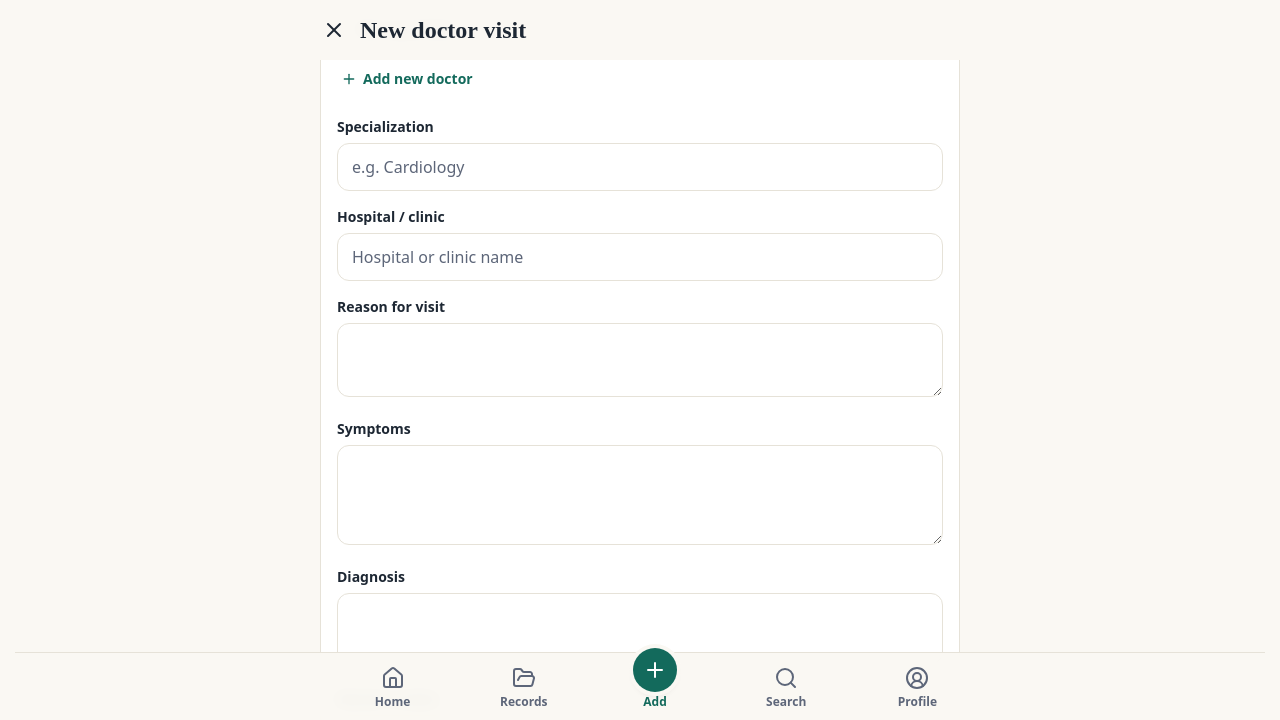
Test: adding a record › asks before a bottom-nav tab leaves a form with unsaved changes
(page scrolled)
Step 1. Type "Chest pain" into the text box labelled "Reason for visit" → {"x": 640, "y": 360}, box [337,323,943,397]
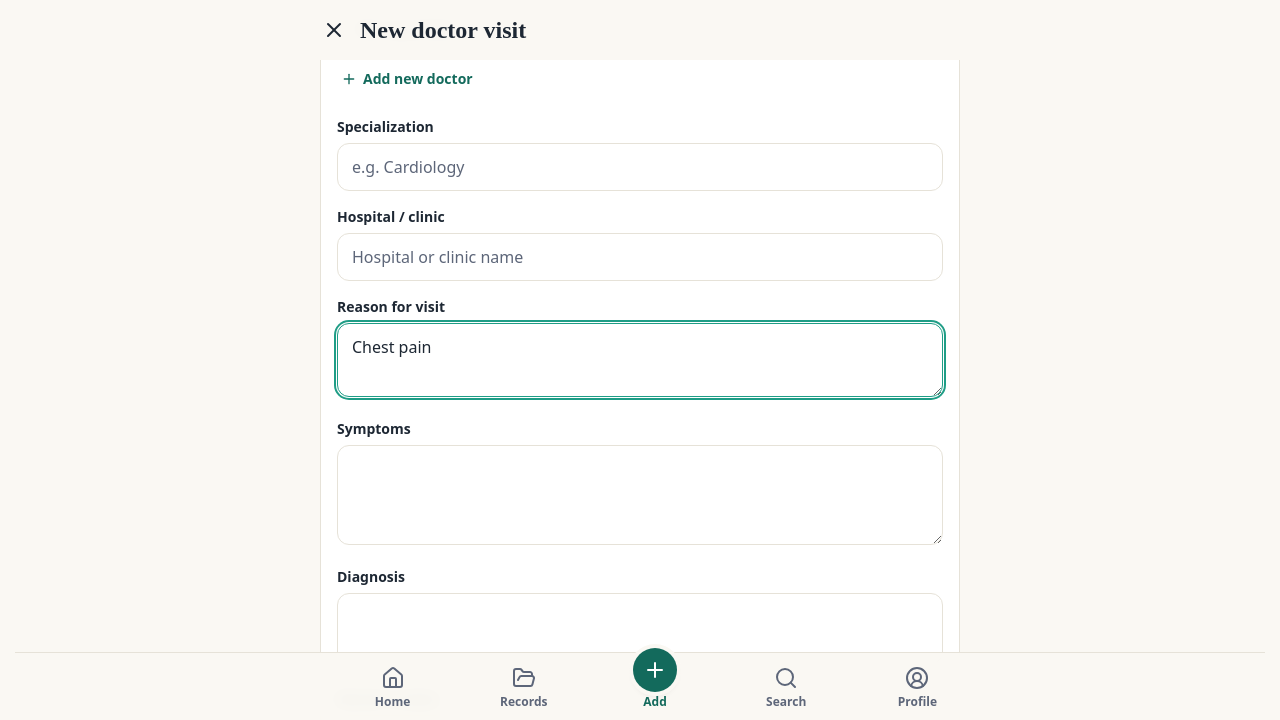
Step 2. Click the link "Records" → {"x": 524, "y": 688}, box [500,666,548,710]
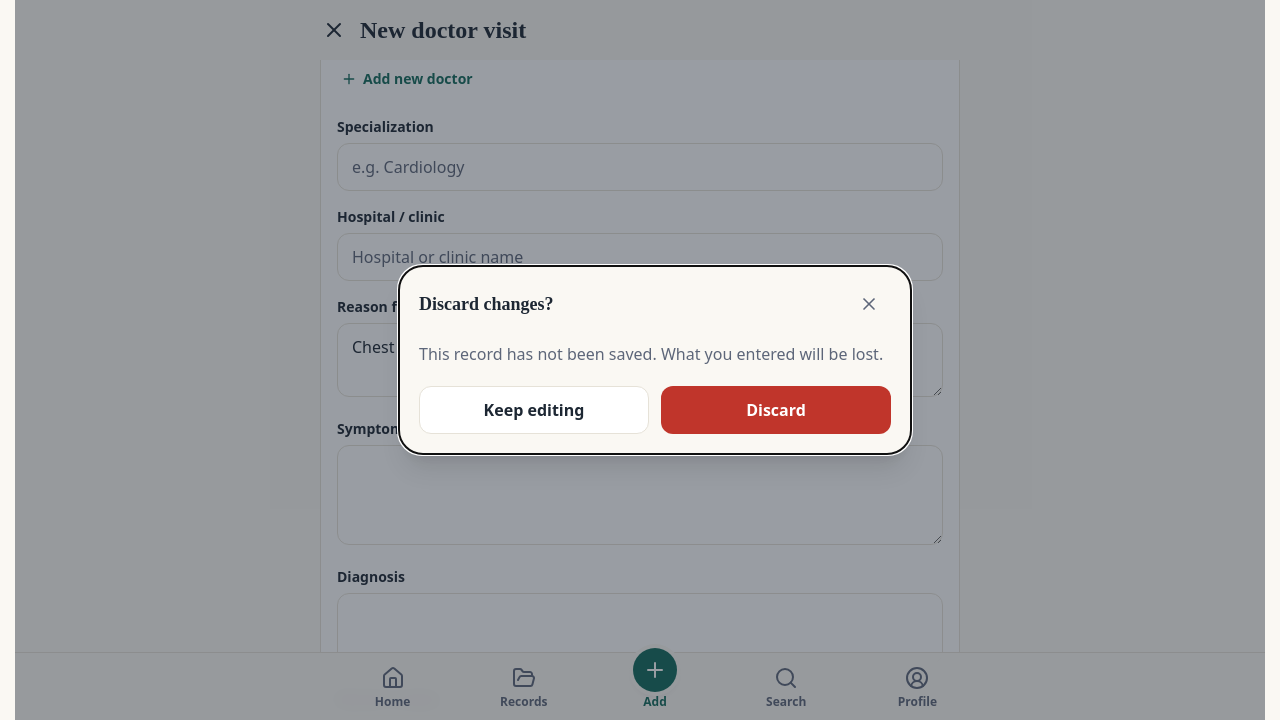
Step 3. Click the button "Keep editing" → {"x": 534, "y": 410}, box [419,386,649,434]
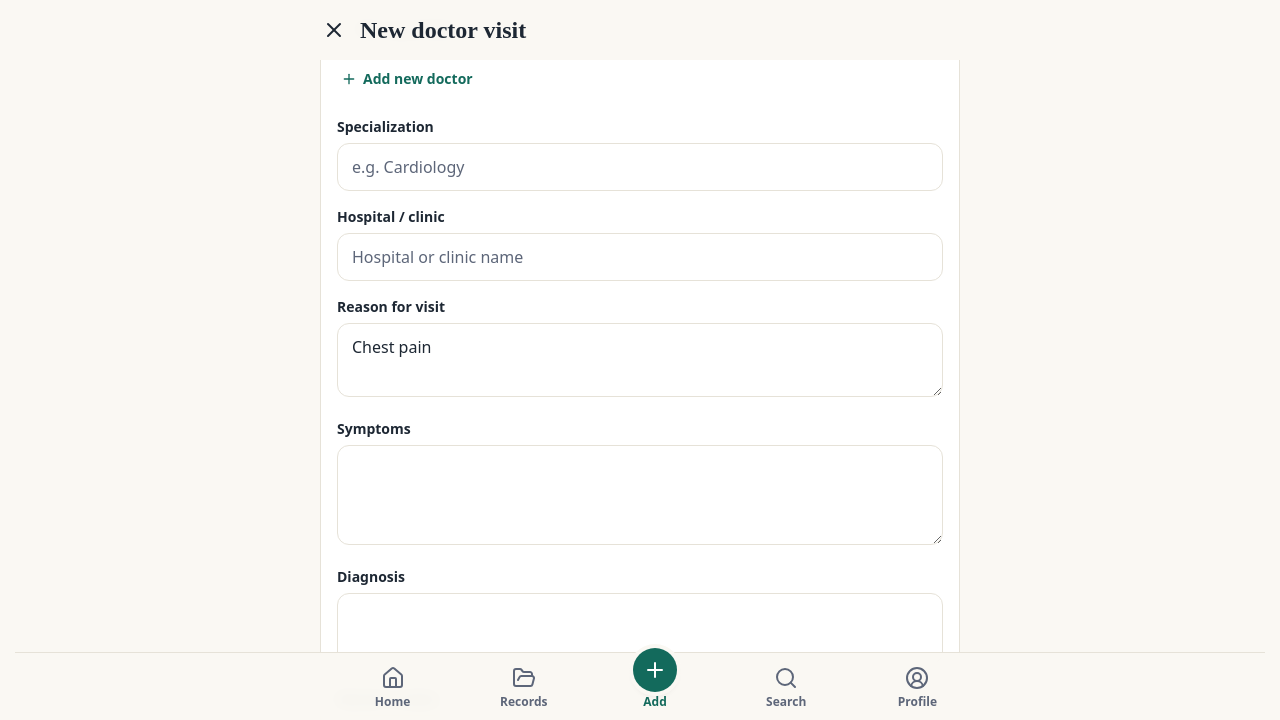
Step 4. Click the link "Records" → {"x": 524, "y": 688}, box [500,666,548,710]
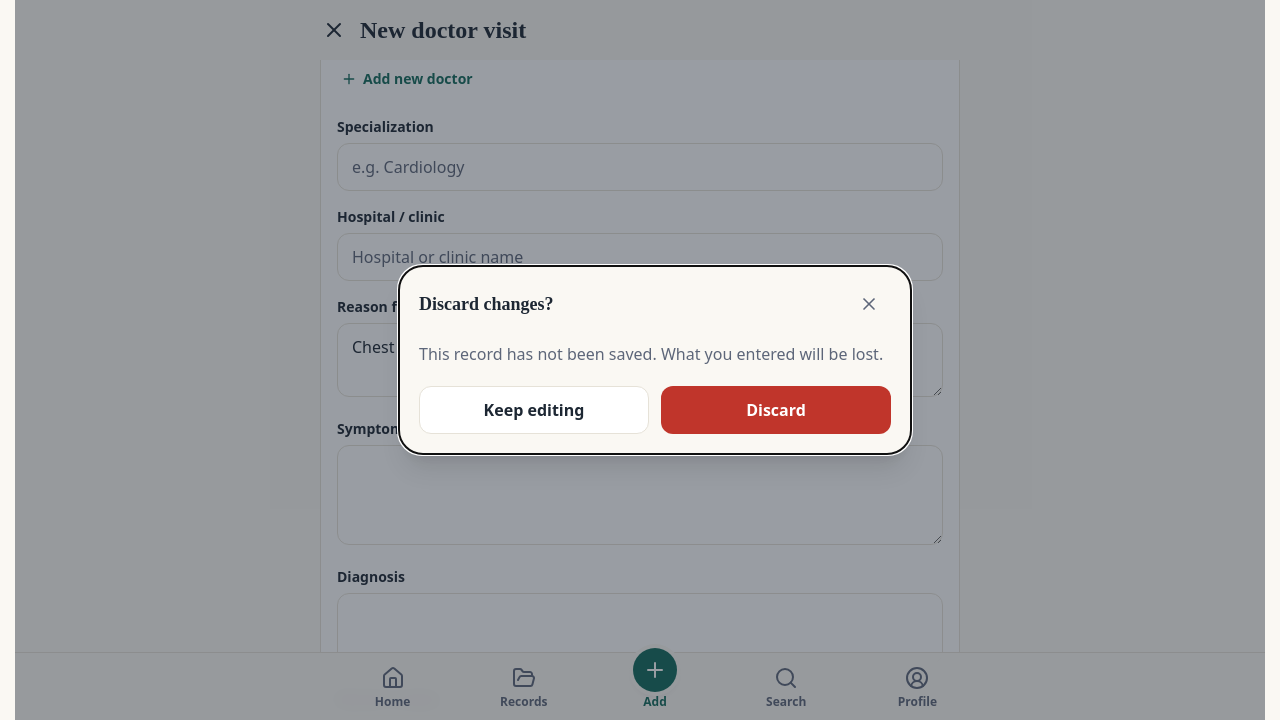
Step 5. Click the button "Discard" → {"x": 776, "y": 410}, box [661,386,891,434]
(page scrolled)
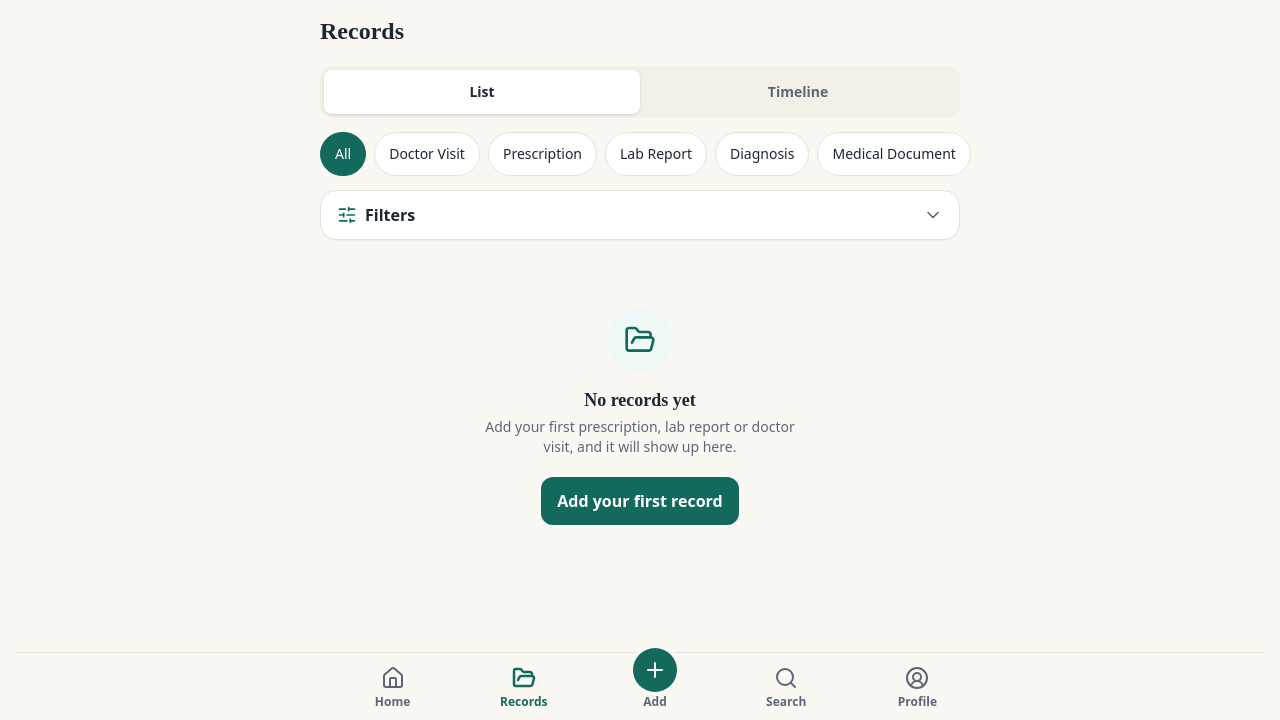
Result: the heading "Records" is shown at [320,18,404,44]
